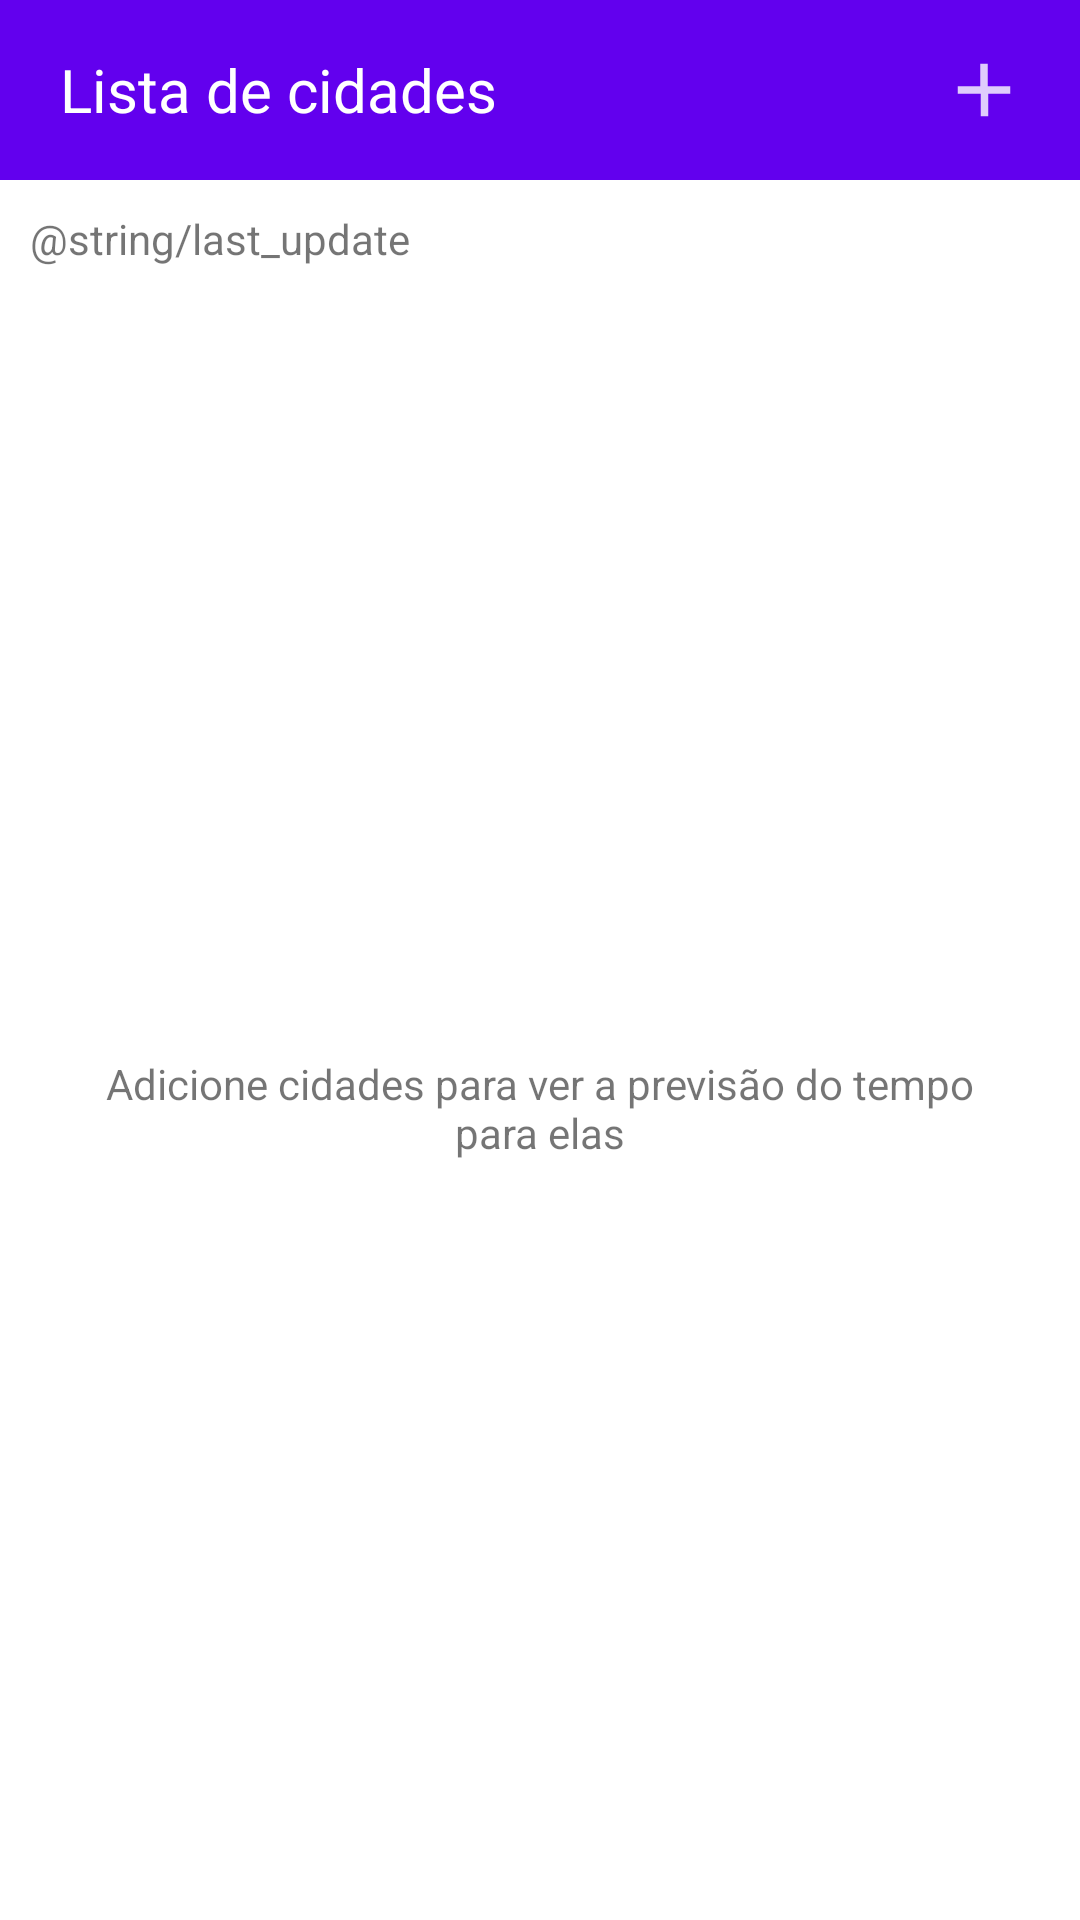

Icon click points for this 1080px x 1920px phone screenshot, format point (x, y):
add: point (984, 90)
